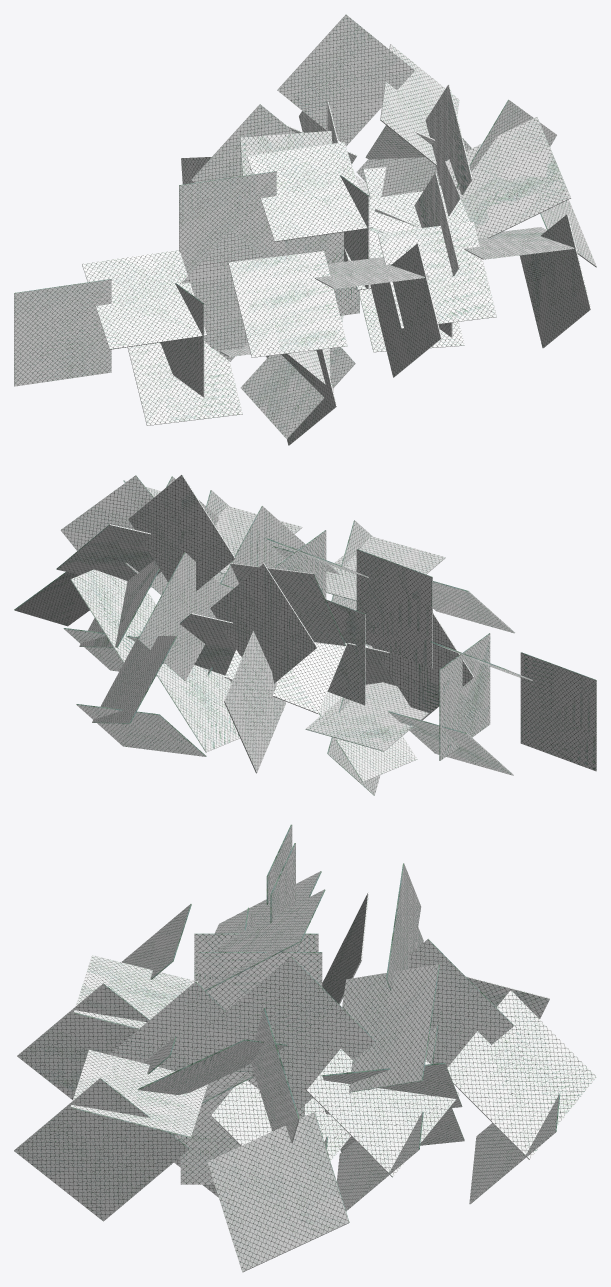
File: Tree 1_leaves.dae
The picture shows the model from 3 angles, top to bottom: view 1: azimuth 30°, elevation 25°; view 2: azimuth 150°, elevation 25°; view 3: azimuth 270°, elevation 25°; orthographic projection. The views are drawn at different scales.
Visible parts, largest first — view 1: Component_1 (×32); view 2: Component_1 (×33); view 3: Component_1 (×29).
Part boxes in pixels (<box>): Component_1 (×32): <box>14,14,596,445</box>; Component_1 (×33): <box>14,475,596,795</box>; Component_1 (×29): <box>14,825,596,1271</box>.
Size of the model in its own units: 253 by 185 by 147.
Materials: 6 (6 with a texture image).
